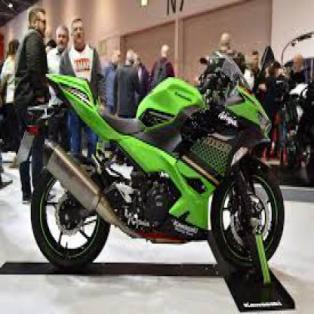Motocicleta: (35, 48, 283, 274)
